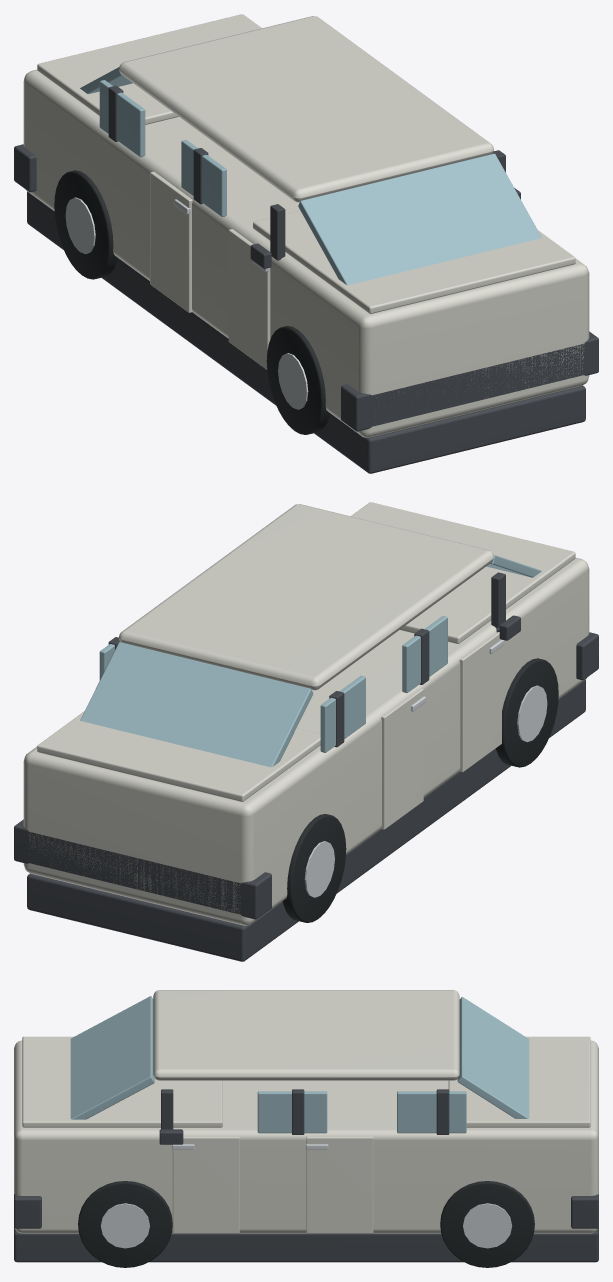
File: car_saloon_b.glb
3 views of the same model, one above another, from view 1: azimuth 30°, elevation 25°; view 2: azimuth 150°, elevation 25°; view 3: azimuth 270°, elevation 25° (orthographic). The views are drawn at different scales.
Parts seen in each view (by area): view 1: Tint.001, Windscreen.001, Underbody.001, Front bumper.001, Wheel tyre.006, Wheel tyre.004, Side window.006, Side window.004, Wheel hub.006, Wheel hub.004, Rear bumper.001, Window pillar.006; view 2: Tint.001, Rear window, Underbody.001, Rear bumper.001, Wheel tyre.006, Wheel tyre.004, Side window.004, Side window.006, Wheel hub.004, Wheel hub.006, Front bumper.001, Window pillar.006; view 3: Tint.001, Underbody.001, Windscreen.001, Rear window, Wheel tyre.005, Wheel tyre.007, Side window.005, Side window.007, Wheel hub.005, Wheel hub.007, Front bumper.001, Rear bumper.001 (+4 smaller).
Boxes of the visible parts, x1=… form: Tint.001: x1=23, y1=14, x2=589, y2=437; Windscreen.001: x1=298, y1=153, x2=541, y2=285; Underbody.001: x1=27, y1=191, x2=585, y2=473; Front bumper.001: x1=341, y1=331, x2=598, y2=431; Wheel tyre.006: x1=54, y1=170, x2=117, y2=279; Wheel tyre.004: x1=266, y1=326, x2=330, y2=434; Side window.006: x1=99, y1=80, x2=145, y2=157; Side window.004: x1=181, y1=140, x2=226, y2=216; Wheel hub.006: x1=65, y1=197, x2=95, y2=254; Wheel hub.004: x1=278, y1=353, x2=308, y2=409; Rear bumper.001: x1=14, y1=144, x2=36, y2=192; Window pillar.006: x1=270, y1=204, x2=285, y2=260; Tint.001: x1=23, y1=502, x2=589, y2=925; Rear window: x1=80, y1=642, x2=313, y2=767; Underbody.001: x1=27, y1=679, x2=585, y2=961; Rear bumper.001: x1=14, y1=819, x2=271, y2=919; Wheel tyre.006: x1=282, y1=814, x2=346, y2=922; Wheel tyre.004: x1=496, y1=658, x2=558, y2=767; Side window.004: x1=402, y1=616, x2=447, y2=692; Side window.006: x1=320, y1=675, x2=365, y2=752; Wheel hub.004: x1=517, y1=685, x2=547, y2=742; Wheel hub.006: x1=304, y1=841, x2=334, y2=897; Front bumper.001: x1=576, y1=632, x2=598, y2=680; Window pillar.006: x1=491, y1=572, x2=505, y2=627; Tint.001: x1=14, y1=990, x2=598, y2=1233; Underbody.001: x1=14, y1=1227, x2=598, y2=1262; Windscreen.001: x1=70, y1=996, x2=154, y2=1119; Rear window: x1=457, y1=997, x2=529, y2=1118; Wheel tyre.005: x1=78, y1=1181, x2=172, y2=1267; Wheel tyre.007: x1=440, y1=1181, x2=534, y2=1267; Side window.005: x1=257, y1=1091, x2=327, y2=1133; Side window.007: x1=397, y1=1091, x2=466, y2=1133; Wheel hub.005: x1=100, y1=1203, x2=149, y2=1248; Wheel hub.007: x1=463, y1=1203, x2=512, y2=1248; Front bumper.001: x1=14, y1=1194, x2=41, y2=1228; Rear bumper.001: x1=571, y1=1194, x2=598, y2=1228.
Size of the model in its own units: 1.82 by 1.5 by 4.2.
